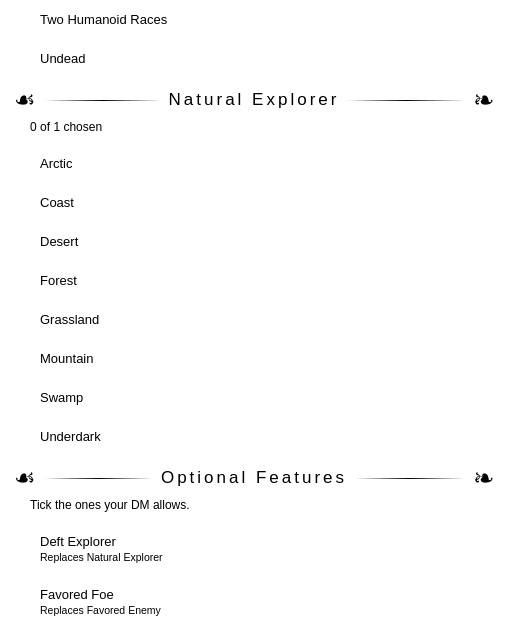
Test: options step: optional features are ticked, and a replacement hides the old slot
The width and height of the screenshot is (510, 631).
(page scrolled)
Expected: the text "Optional Features" is shown, [161, 468, 347, 488]
Expected: the text "Tick the ones your DM allows." is shown, [30, 498, 190, 512]
Click the text "Favored Foe" at (77,594), box [40, 587, 114, 602]
(page scrolled)
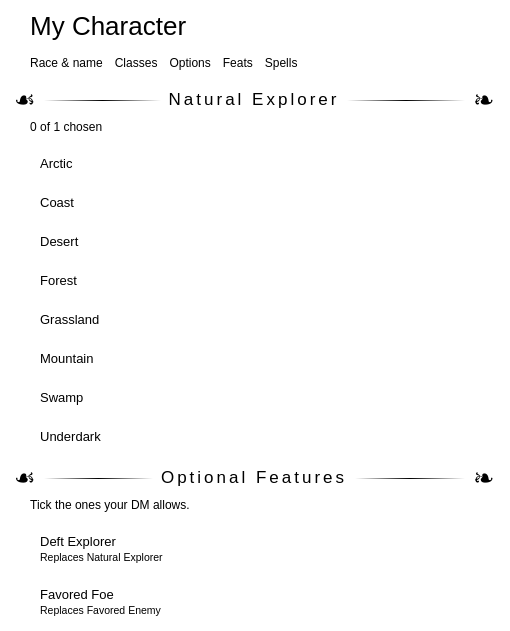
Expected: the text "Natural Explorer" is shown, [169, 90, 339, 110]
Click the text "Favored Foe" at (77,594), box [40, 587, 114, 602]
(page scrolled)
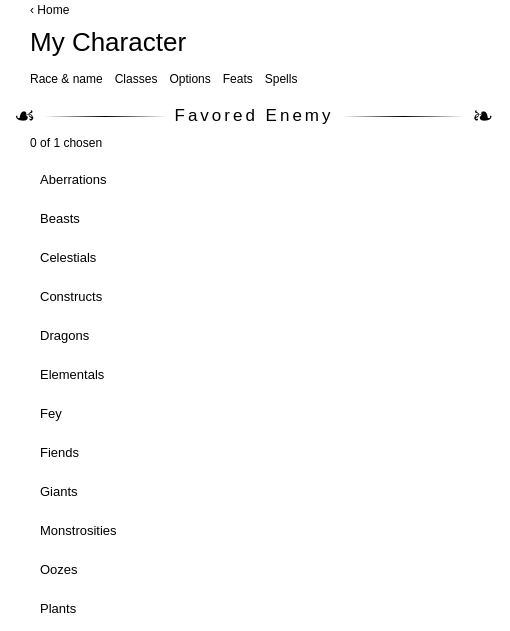
Expected: the text "Favored Enemy" is shown, [174, 106, 334, 126]
